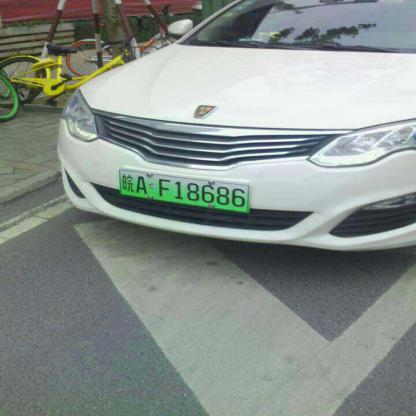lp: (118, 170, 250, 212)
